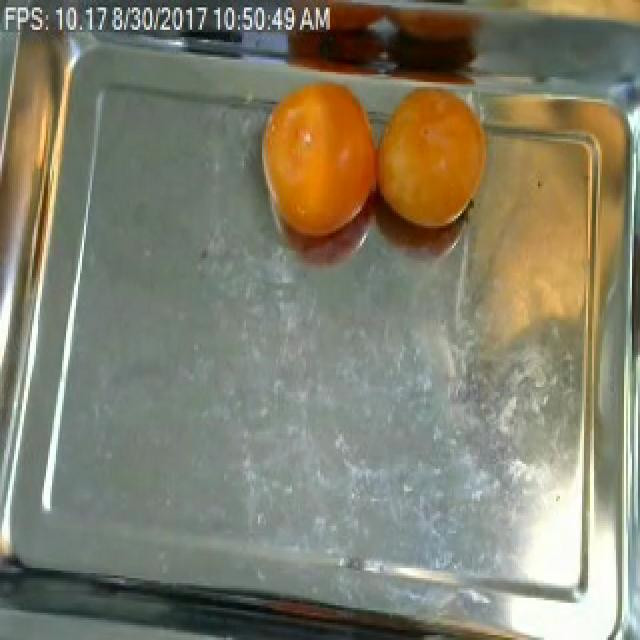Fruit: (422, 117, 616, 424), (256, 75, 384, 238), (370, 80, 502, 238), (400, 593, 608, 640), (440, 3, 640, 42)
